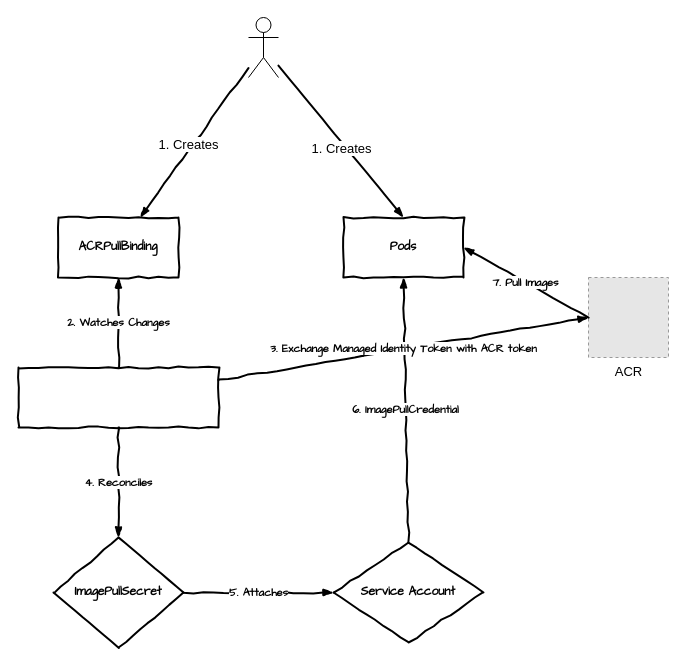
This 686x666 diagram has some shape labels left out. Grey dashed boxes stand in for pictures. The centre of each missing label's shape, as x and y in pixels:
"ACRPullBindingController" belongs at (118,397).
"User" belongs at (263,47).
